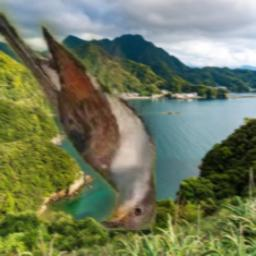Cuckoo: (0, 0, 156, 231)
